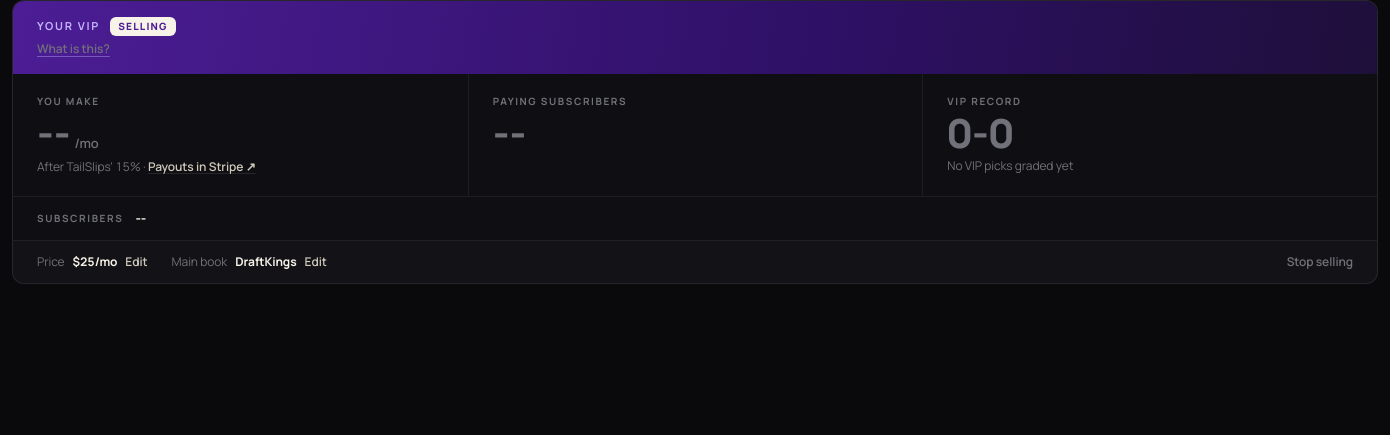
Test: SellerStrip › pluralizes the confirm count and hides it while loading
The image size is (1390, 435).
What coordinates should you click on to do the following:
click the button "Stop selling"
I would click on:
 (1320, 262)
Its box is [1287,253,1353,271].
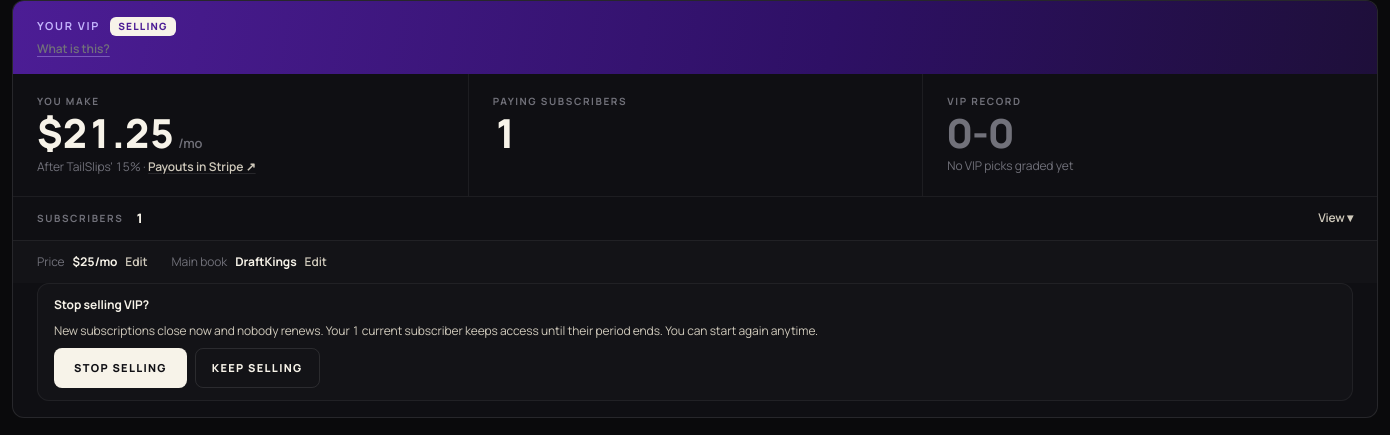
Check: the text "Your 1 current subscriber keeps" is shown, box [326,322,498,339]
